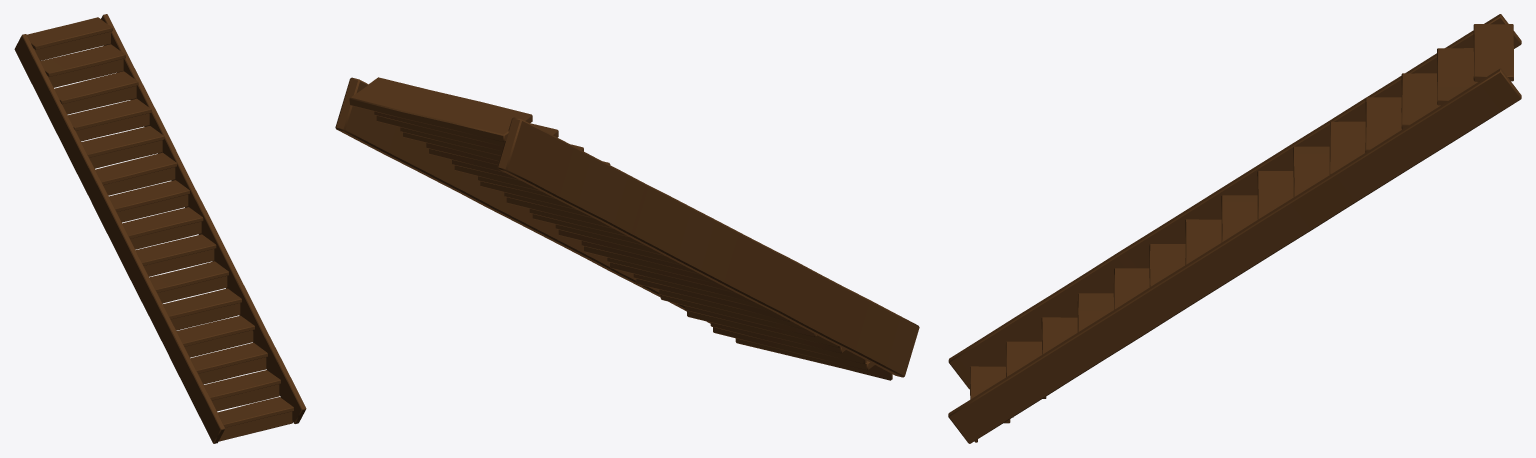
File: treppe_holz.glb
The picture shows the model from 3 angles, left to right: view 1: azimuth 30°, elevation 25°; view 2: azimuth 150°, elevation 25°; view 3: azimuth 270°, elevation 25°; orthographic projection. The views are drawn at different scales.
Visible parts, largest first — view 1: treppe_holz; view 2: treppe_holz; view 3: treppe_holz.
Part boxes in pixels (<box>): treppe_holz: <box>14,14,306,443</box>; treppe_holz: <box>335,77,919,380</box>; treppe_holz: <box>948,14,1521,443</box>.
Bounding box in the file's own units: 1.02 × 3.06 × 4.25.
